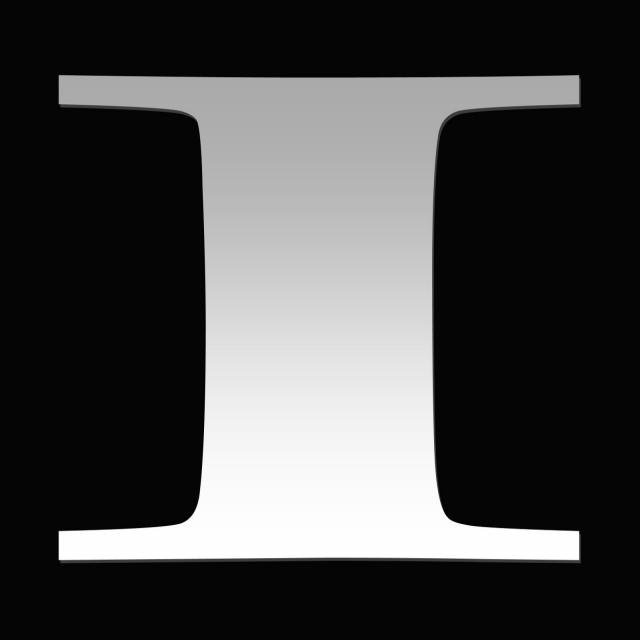I: (26, 37, 599, 596)
